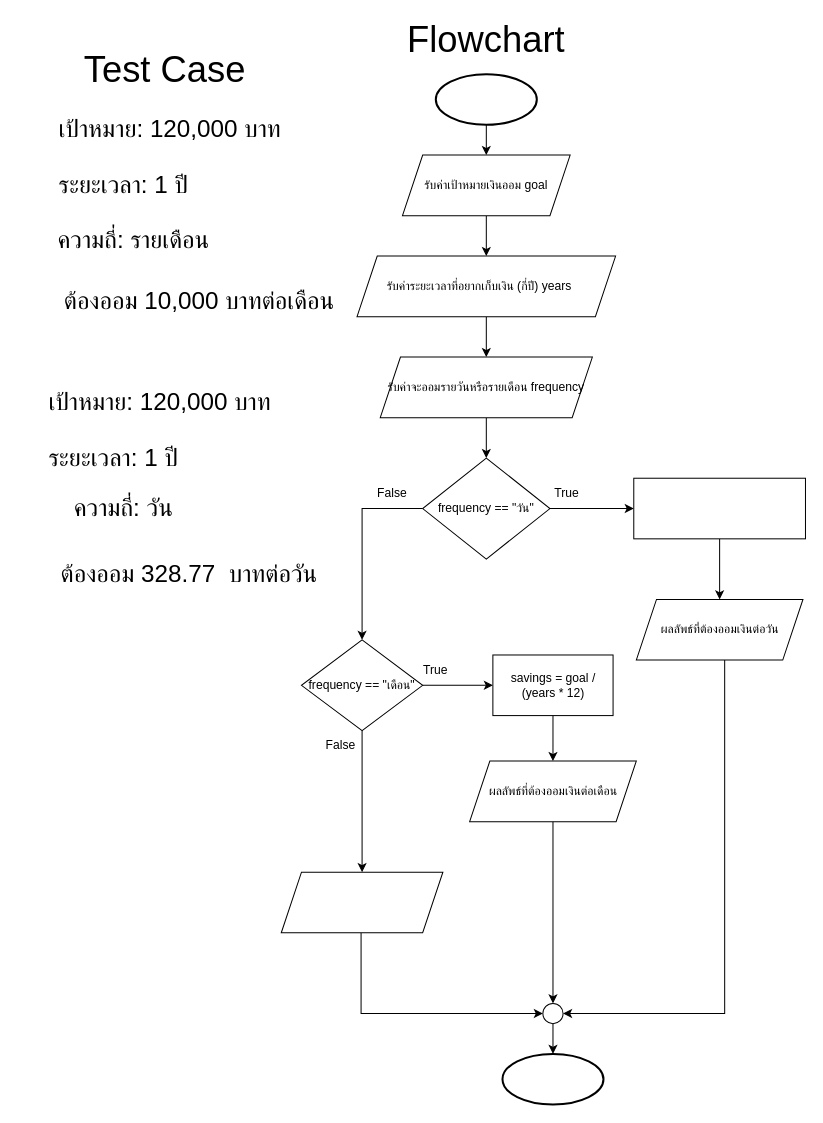
The diagram is 823 pixels wide and 1123 high, and some of its shapes have lost their labels. The centre of each missing label's shape, as x and y in pixels:
end: point (552, 1078)
savings = goal / (years * 365 ): point (719, 508)
stat: point (485, 99)
ความถี่ที่กรอกไม่ถูกต้อง กรุณาเลือก วัน หรือ เดือน": point (361, 902)
